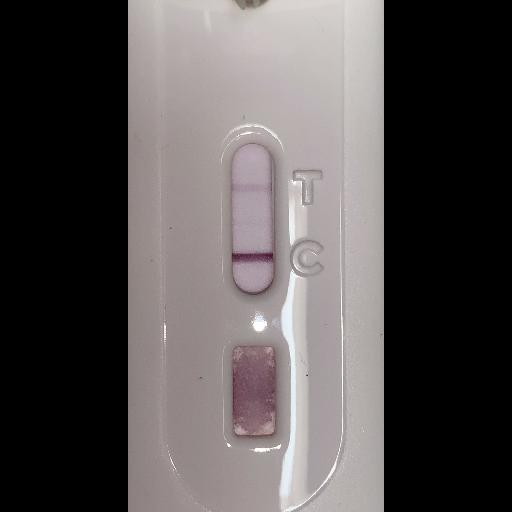Pos: (128, 0, 341, 511)
